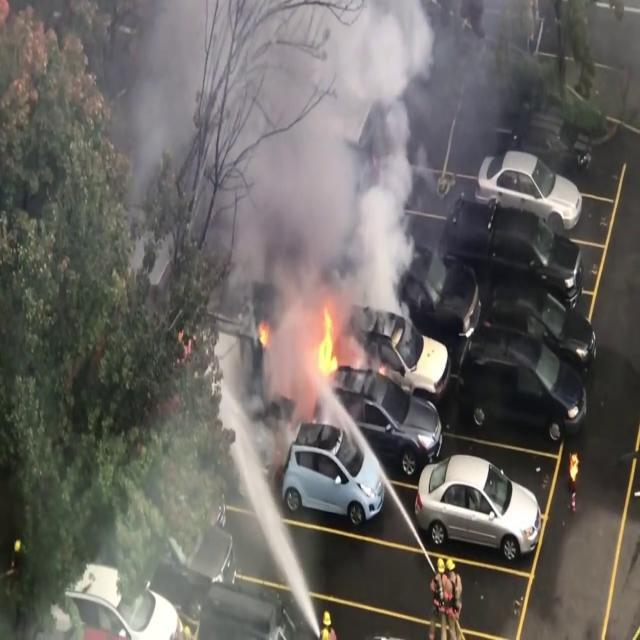Fire: (312, 298, 346, 386)
Smoke: (42, 0, 446, 334)
